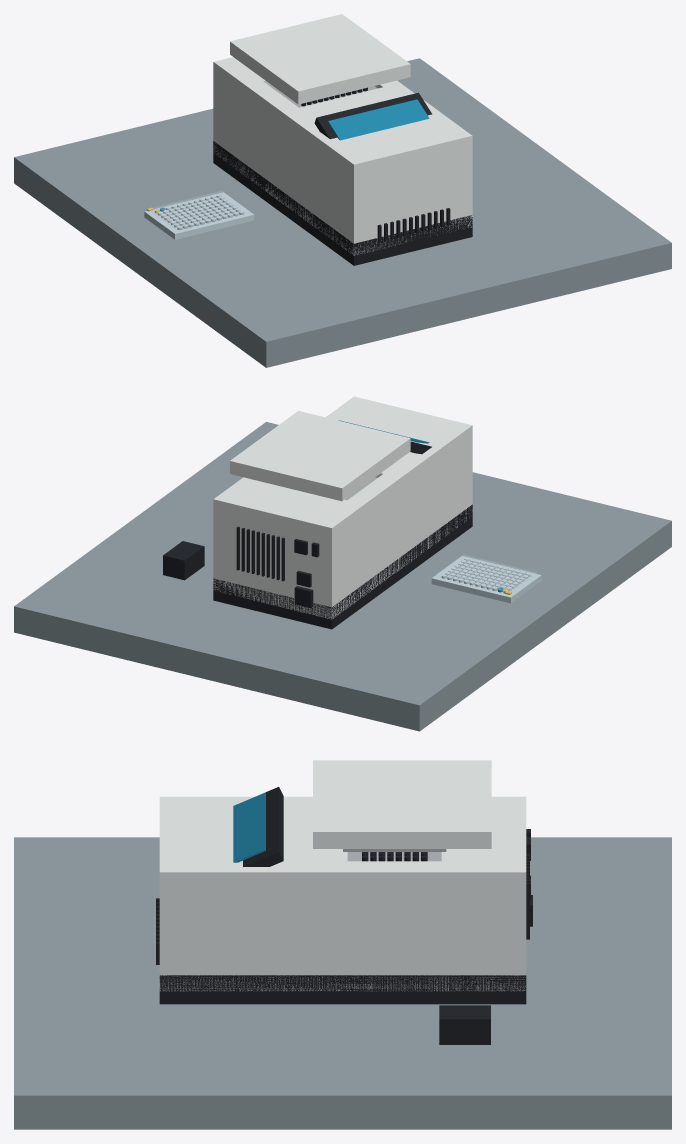
The model's file is miniamp23.glb.
3 renders of one model, top to bottom at view 1: azimuth 30°, elevation 25°; view 2: azimuth 150°, elevation 25°; view 3: azimuth 270°, elevation 25°, orthographic. The views are drawn at different scales.
Parts seen in each view (by area): view 1: environment.bench, machine.body, lid.panel, machine.base, plate.seal, controls.display, plate.frame, controls.panel; view 2: environment.bench, machine.body, lid.panel, machine.base, plate.seal, plate.frame, power.plug; view 3: environment.bench, machine.body, lid.panel, machine.base, power.plug, controls.display, controls.panel.
Boxes of the visible parts, left/top/right/bottom form: environment.bench: left=14, top=58, right=671, bottom=367; machine.body: left=213, top=57, right=472, bottom=255; lid.panel: left=230, top=14, right=410, bottom=104; machine.base: left=213, top=141, right=472, bottom=265; plate.seal: left=150, top=191, right=250, bottom=229; controls.display: left=328, top=99, right=429, bottom=140; plate.frame: left=144, top=192, right=254, bottom=239; controls.panel: left=314, top=92, right=431, bottom=139; environment.bench: left=14, top=422, right=671, bottom=731; machine.body: left=213, top=396, right=472, bottom=619; lid.panel: left=230, top=411, right=410, bottom=501; machine.base: left=213, top=504, right=472, bottom=629; plate.seal: left=436, top=554, right=537, bottom=591; plate.frame: left=431, top=556, right=541, bottom=603; power.plug: left=163, top=541, right=204, bottom=580; environment.bench: left=14, top=837, right=671, bottom=1129; machine.body: left=159, top=796, right=526, bottom=991; lid.panel: left=313, top=760, right=491, bottom=848; machine.base: left=159, top=975, right=526, bottom=1004; power.plug: left=439, top=1005, right=490, bottom=1044; controls.display: left=233, top=792, right=265, bottom=862; controls.panel: left=243, top=787, right=283, bottom=866.
Bounding box in the file's own units: 0.65 × 0.24 × 0.7.
